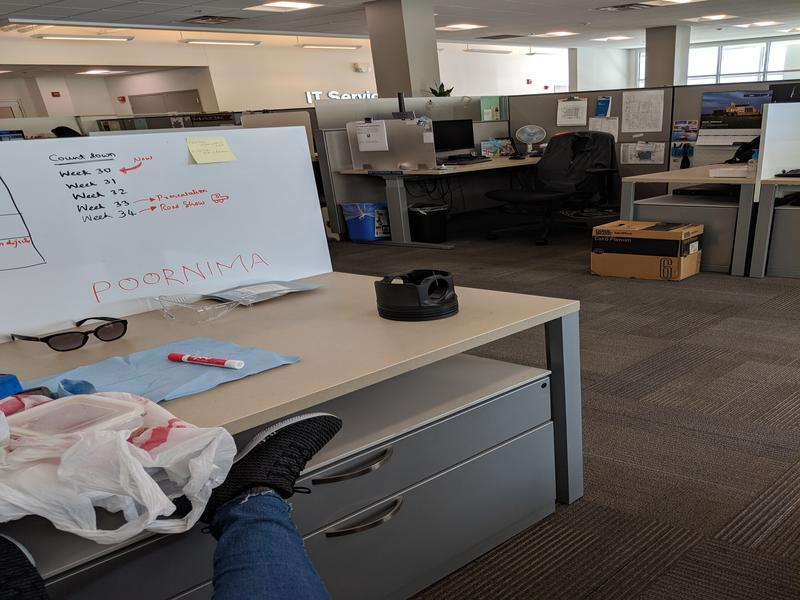piston: (371, 267, 461, 324)
